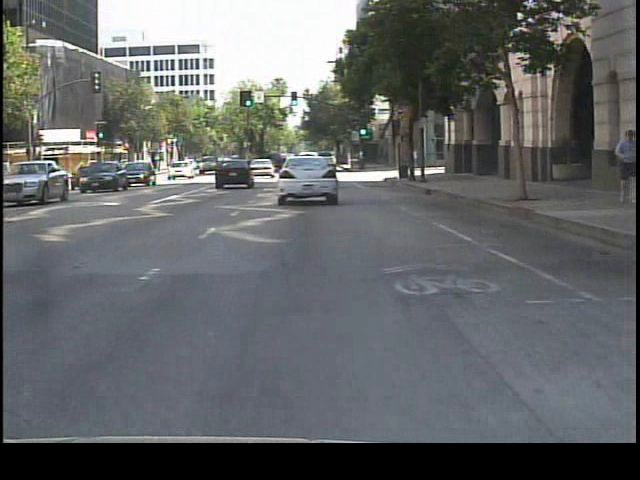person: (606, 123, 638, 203)
